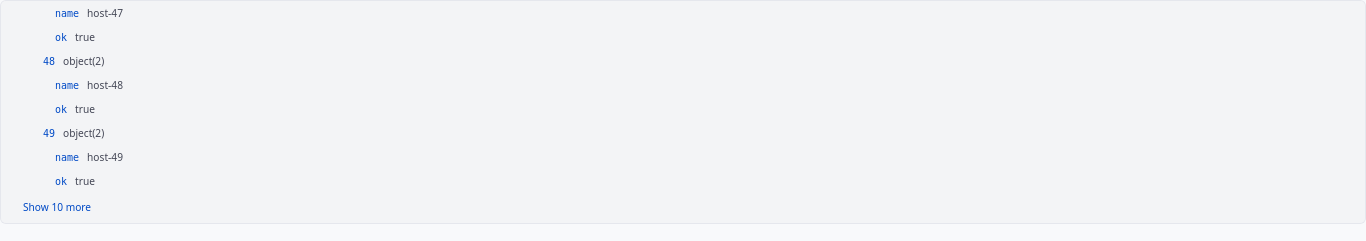
Test: JsonPathTree › reveals the next batch on each click and drops the button at the end
(page scrolled)
Click the button "Show 10 more". click: (57, 207)
box: left=7, top=198, right=1359, bottom=217
(page scrolled)
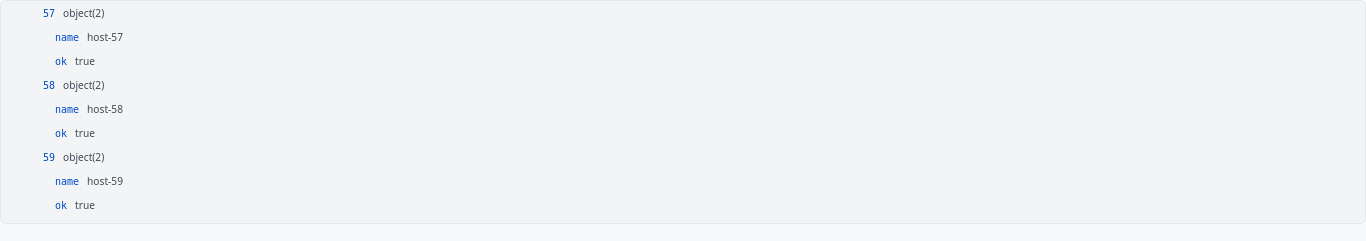
expect the text "59" is shown: met, box left=43, top=150, right=55, bottom=164
expect the button "Show 10 more" is gone: met
